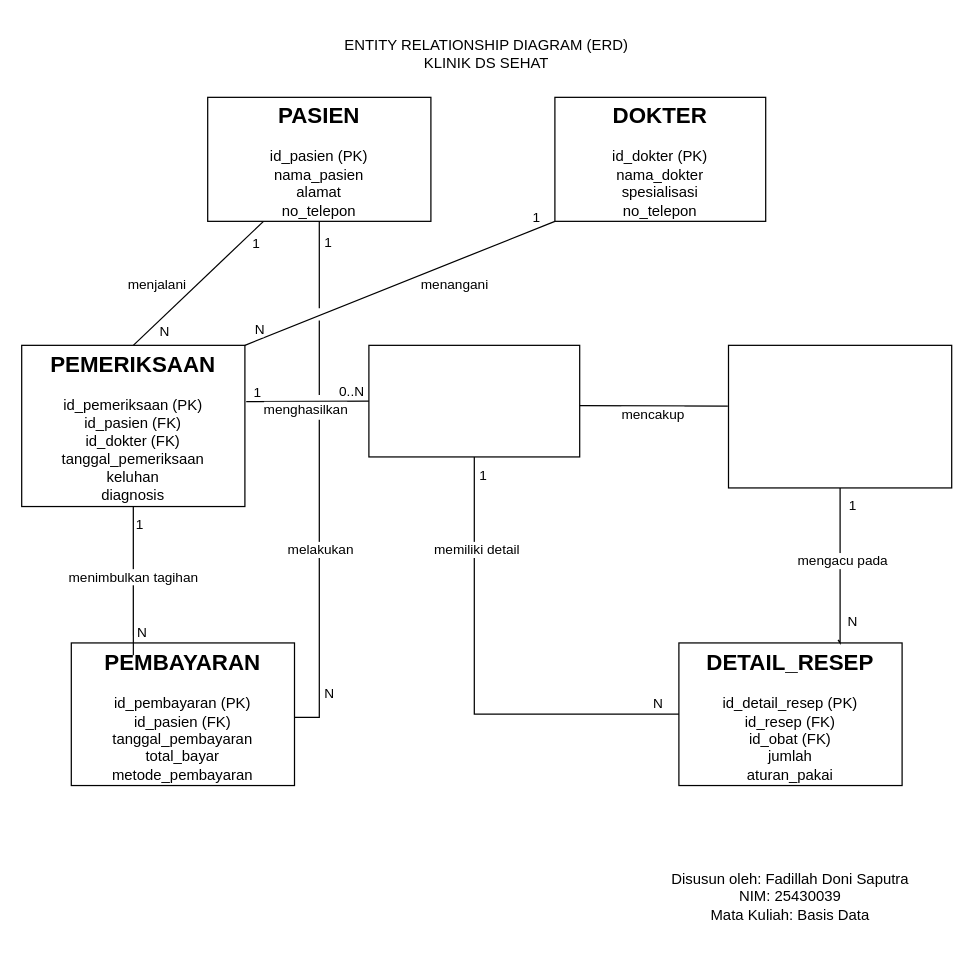
This 973x960 diagram has some shape labels left out. Here are the shapes that lost their labels. From the top down, the centre of each, then its label:
At pixel 474 400: "RESEP id_resep (PK) id_pemeriksaan (FK) tanggal_resep".
At pixel 839 416: "OBAT id_obat (PK) nama_obat jenis_obat stok harga".
